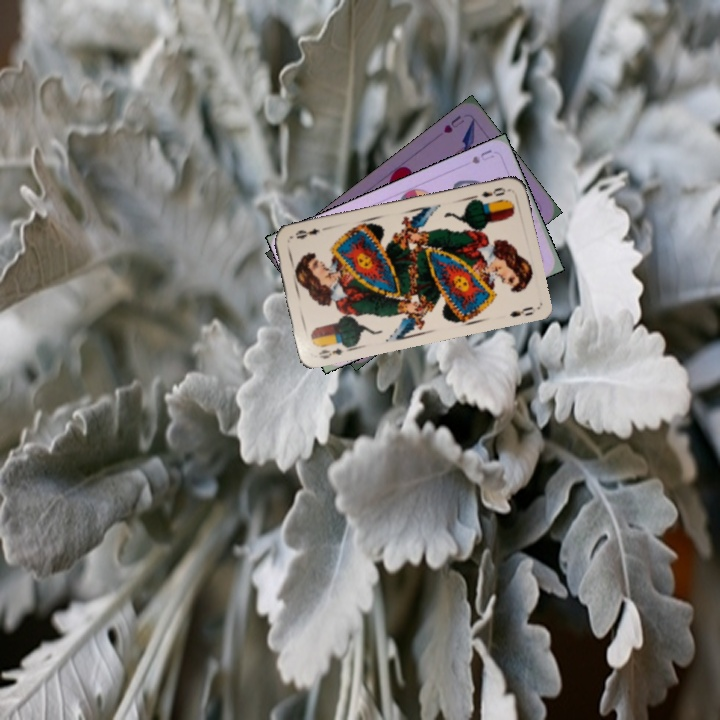EO: (314, 338, 353, 361), (477, 183, 508, 200)
HU: (440, 111, 467, 136)
SU: (468, 145, 497, 166)
